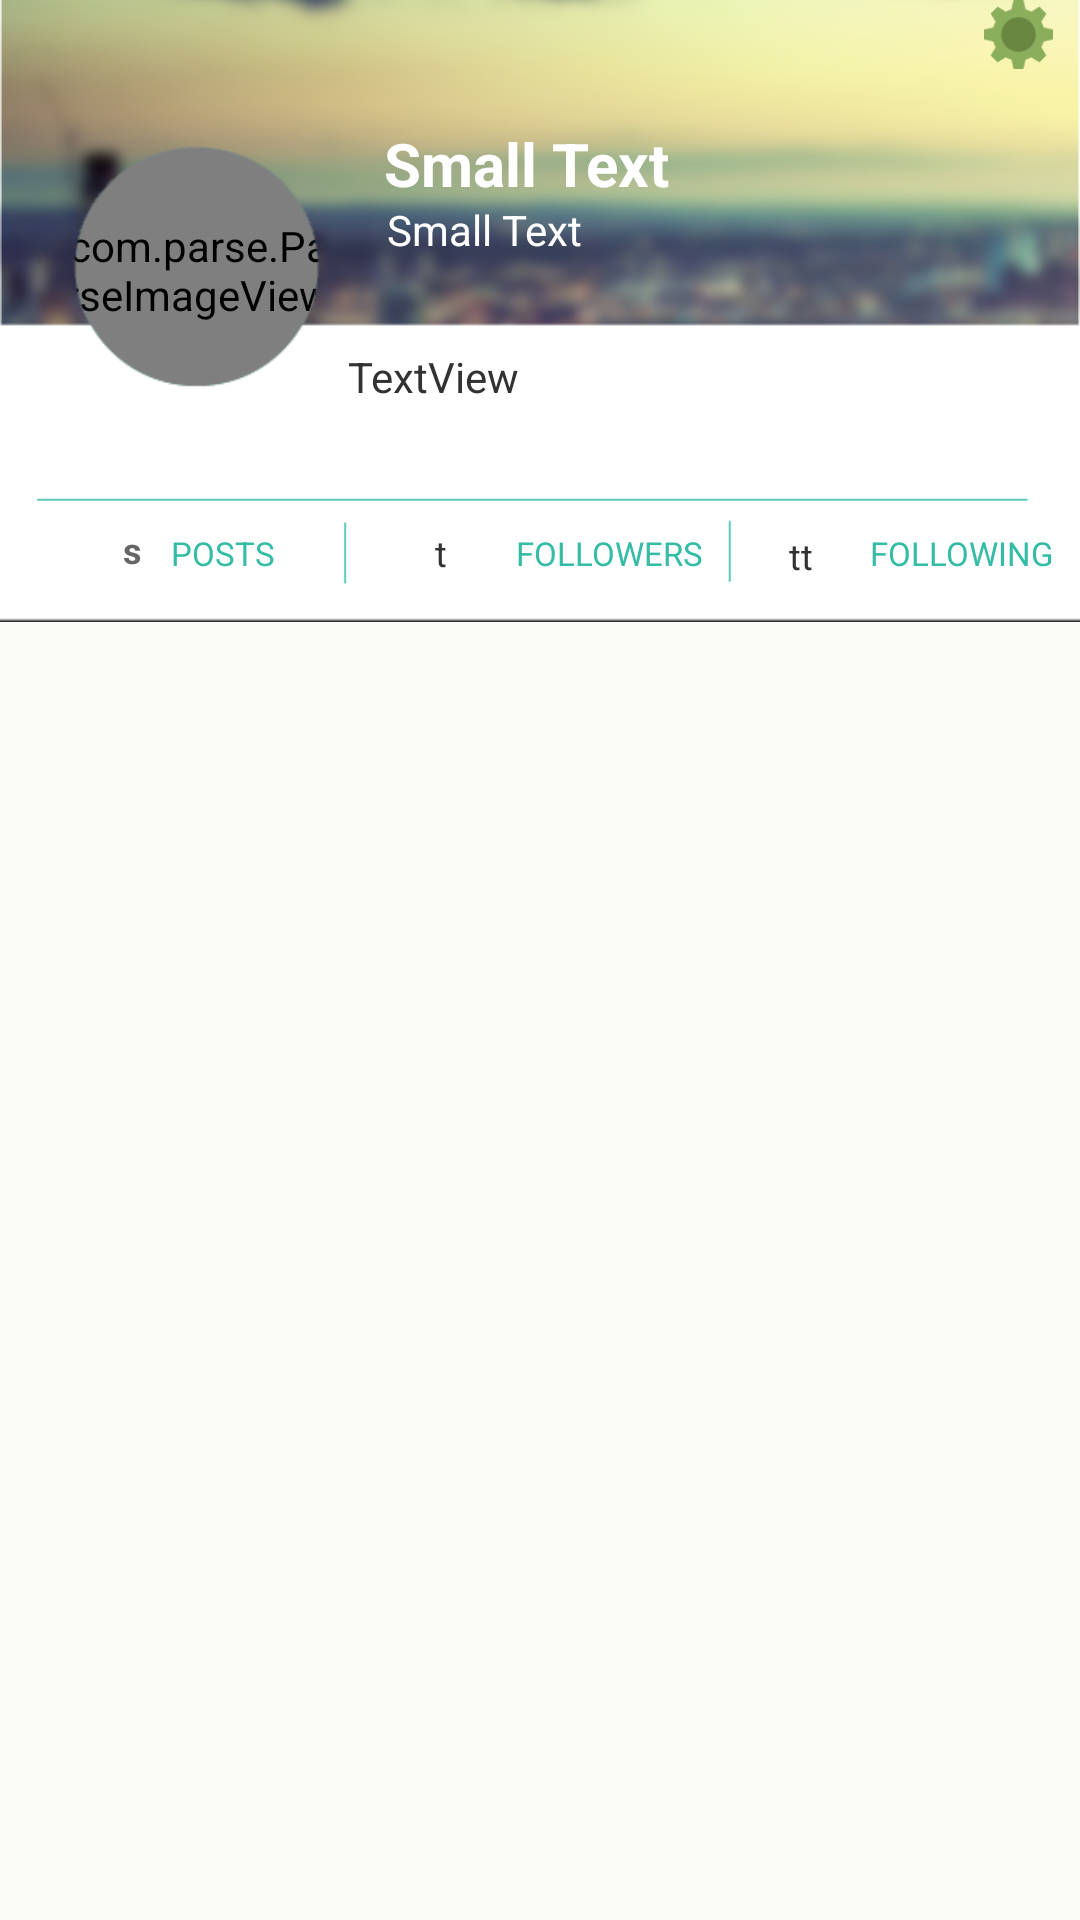

Point at icon controls on the screen. Image size 1080×1920, points as point (x, y).
sett: point (1018, 34)
